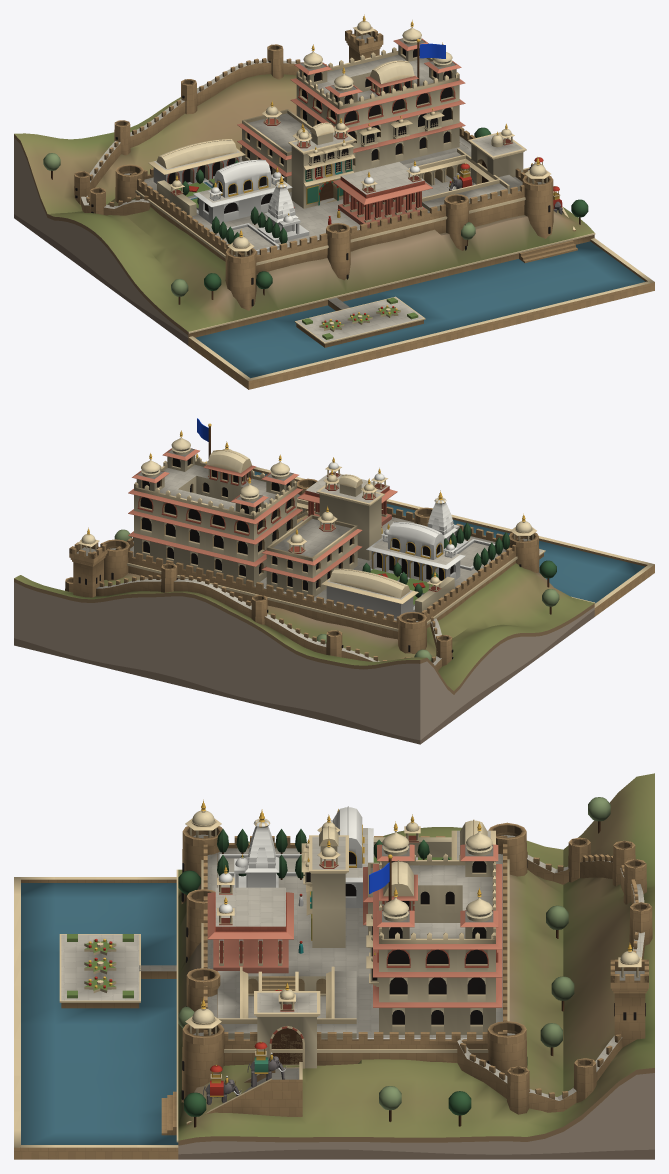
Rendered from lm_amberkalesi.glb.
3 renders of one model, top to bottom at view 1: azimuth 30°, elevation 25°; view 2: azimuth 150°, elevation 25°; view 3: azimuth 270°, elevation 25°, orthographic. The views are drawn at different scales.
Parts seen in each view (by area): view 1: lm_amberkalesi; view 2: lm_amberkalesi; view 3: lm_amberkalesi.
Boxes of the visible parts, box(x1,y1,x2,y2) form: lm_amberkalesi: box(14, 14, 654, 389); lm_amberkalesi: box(14, 418, 654, 744); lm_amberkalesi: box(14, 773, 654, 1159).
Size of the model in its own units: 2.3 by 0.9471 by 2.3.
1 material, 1 textured.
